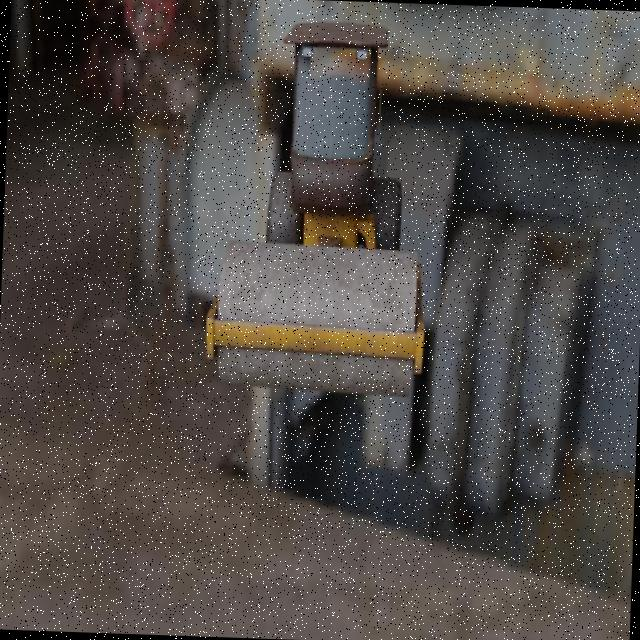Roller: (204, 17, 434, 398)
